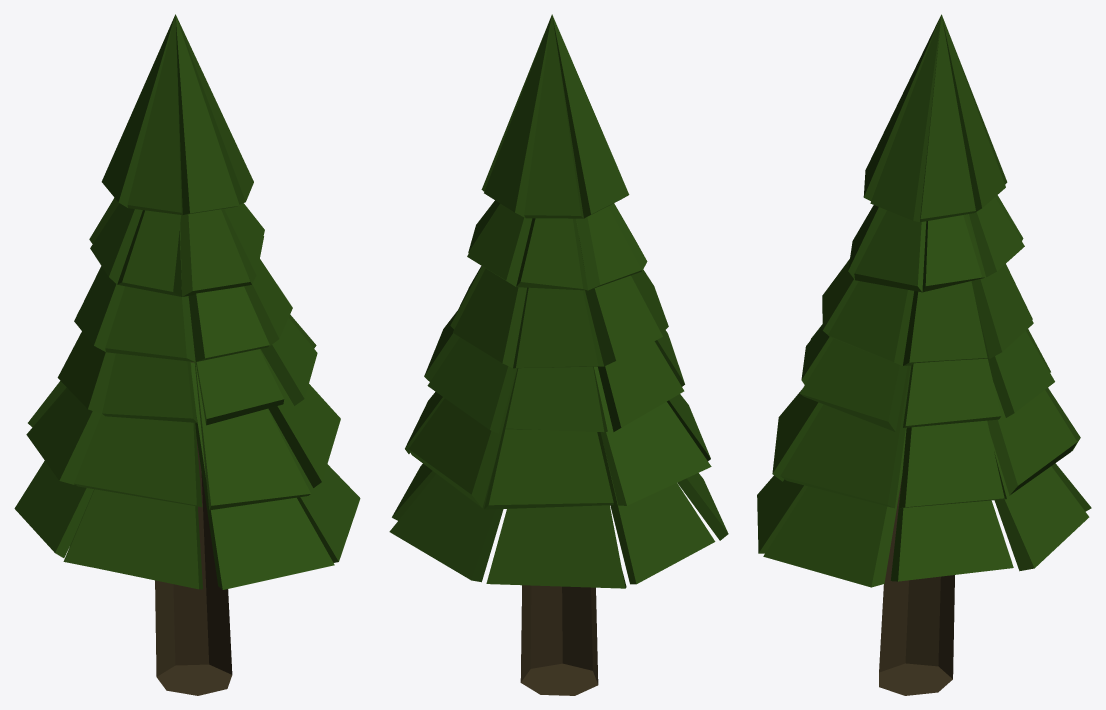
File: PineTree1.fbx
3 renders of one model, left to right at view 1: azimuth 30°, elevation 25°; view 2: azimuth 150°, elevation 25°; view 3: azimuth 270°, elevation 25°, orthographic. The views are drawn at different scales.
Visible parts, largest first — view 1: PineTree1; view 2: PineTree1; view 3: PineTree1.
Part boxes in pixels (left/top/right/bottom): PineTree1: left=14, top=14, right=360, bottom=695; PineTree1: left=389, top=14, right=728, bottom=695; PineTree1: left=757, top=14, right=1091, bottom=695.
Bounding box in the file's own units: 56.41 × 122 × 55.65.
